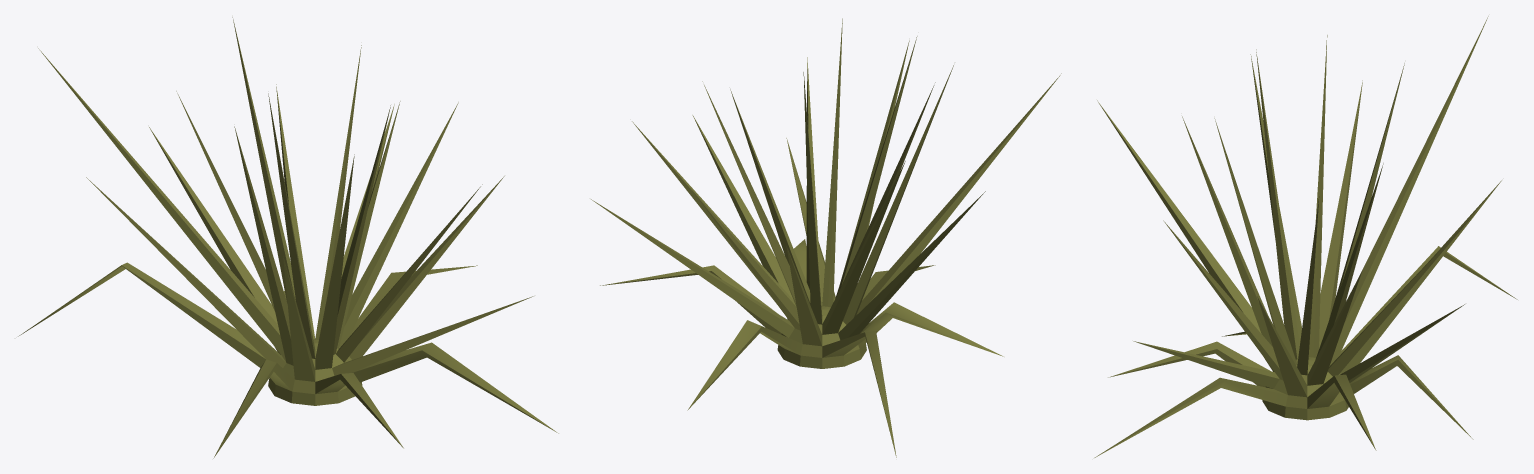
Rendered from FlaxUV.fbx.
3 views of the same model, side by side, from view 1: azimuth 30°, elevation 25°; view 2: azimuth 150°, elevation 25°; view 3: azimuth 270°, elevation 25° (orthographic). The views are drawn at different scales.
Parts seen in each view (by area): view 1: flax; view 2: flax; view 3: flax.
Boxes of the visible parts, <box> form: flax: <box>18,17,558,458</box>; flax: <box>591,18,1061,457</box>; flax: <box>1094,16,1517,457</box>.
Bounding box in the file's own units: 9.85 × 8.34 × 9.51.
